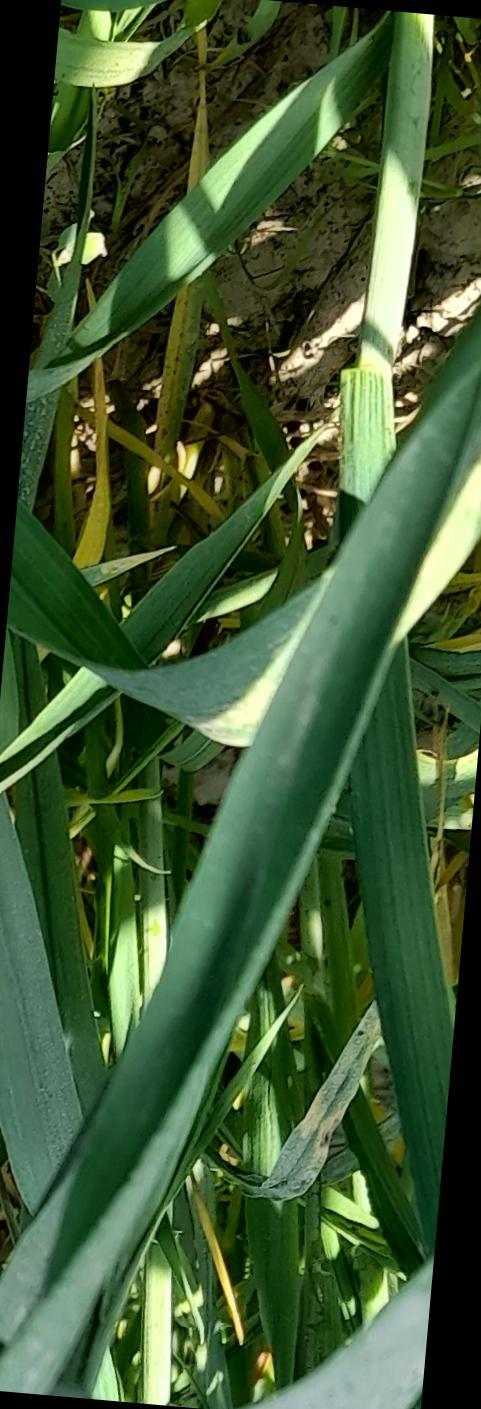Wheat: (37, 483, 467, 1227)
